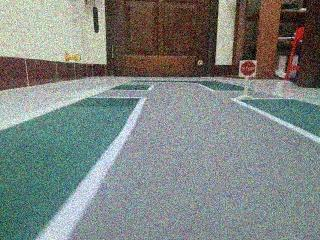stop: (239, 54, 258, 82)
